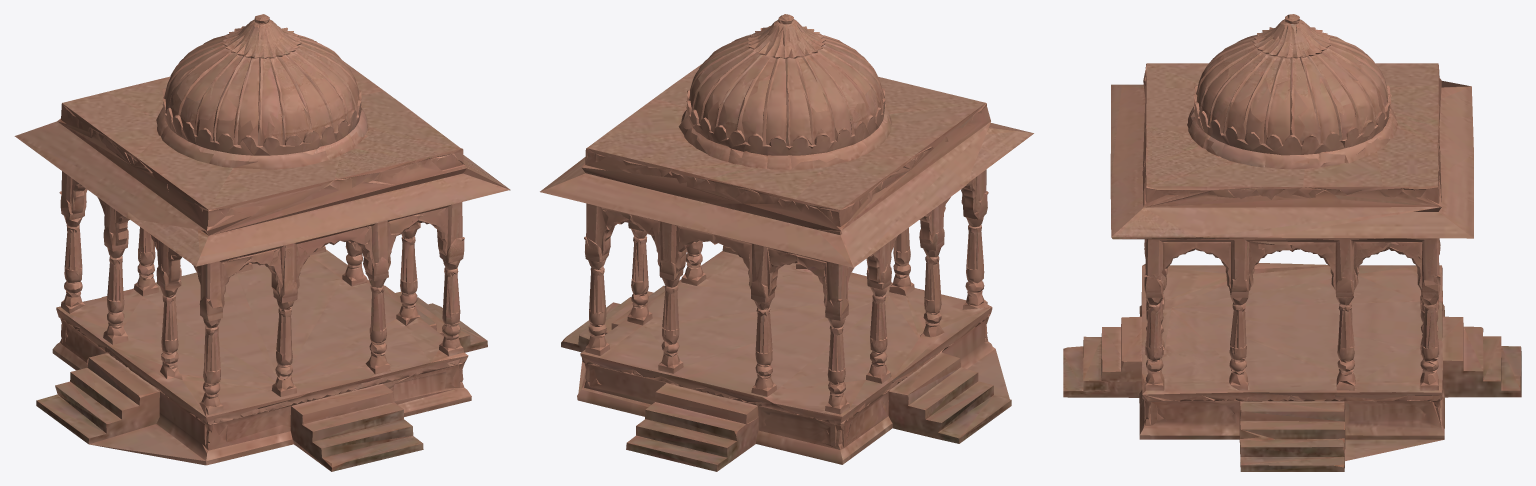
Rendered from pavilion.glb.
3 views of the same model, side by side, from view 1: azimuth 30°, elevation 25°; view 2: azimuth 150°, elevation 25°; view 3: azimuth 270°, elevation 25° (orthographic).
Visible parts, largest first — view 1: placed; view 2: placed; view 3: placed.
Boxes of the visible parts, x1,y1,x2,y2 form: placed: (14, 14, 510, 471); placed: (540, 14, 1033, 471); placed: (1063, 14, 1521, 471).
Size of the model in its own units: 8 by 6.93 by 7.99.
Materials: 1 (1 with a texture image).
